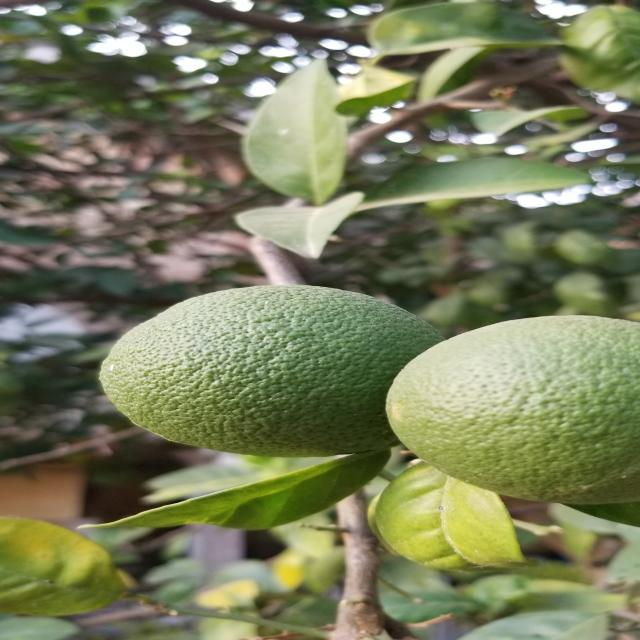Unripe: (91, 286, 428, 462), (376, 308, 630, 503)
